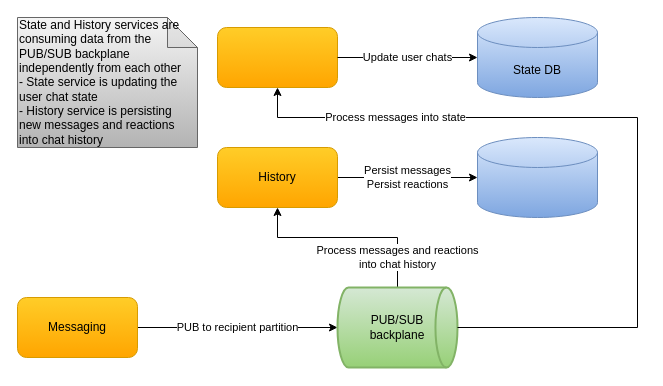
This 663x386 diagram has some shape labels left out. The box of each missing label's shape, as (x1, y1, x2, y2) in pixels:
History DB: (476, 136, 598, 218)
State: (216, 26, 338, 88)
